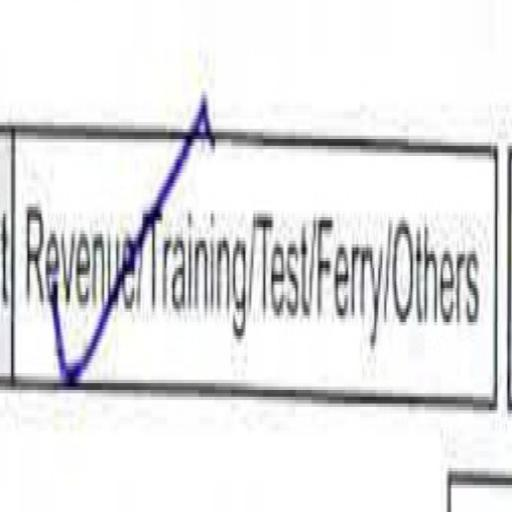check: (18, 86, 139, 419)
